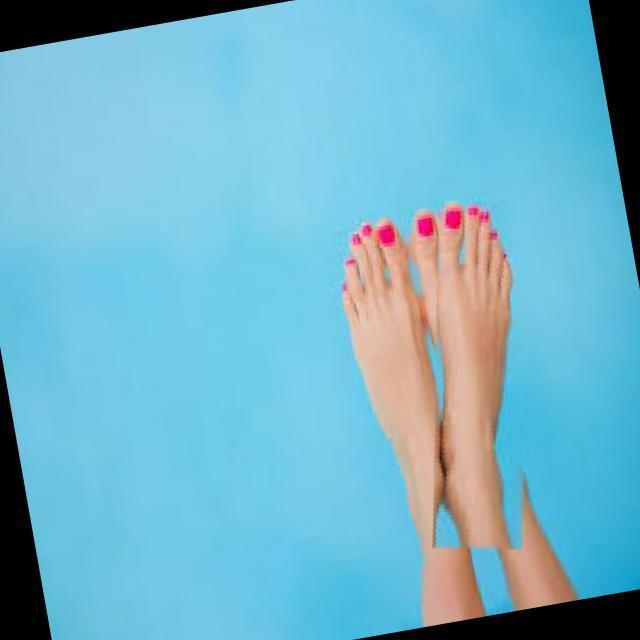No_Shoes: (325, 196, 571, 534)
